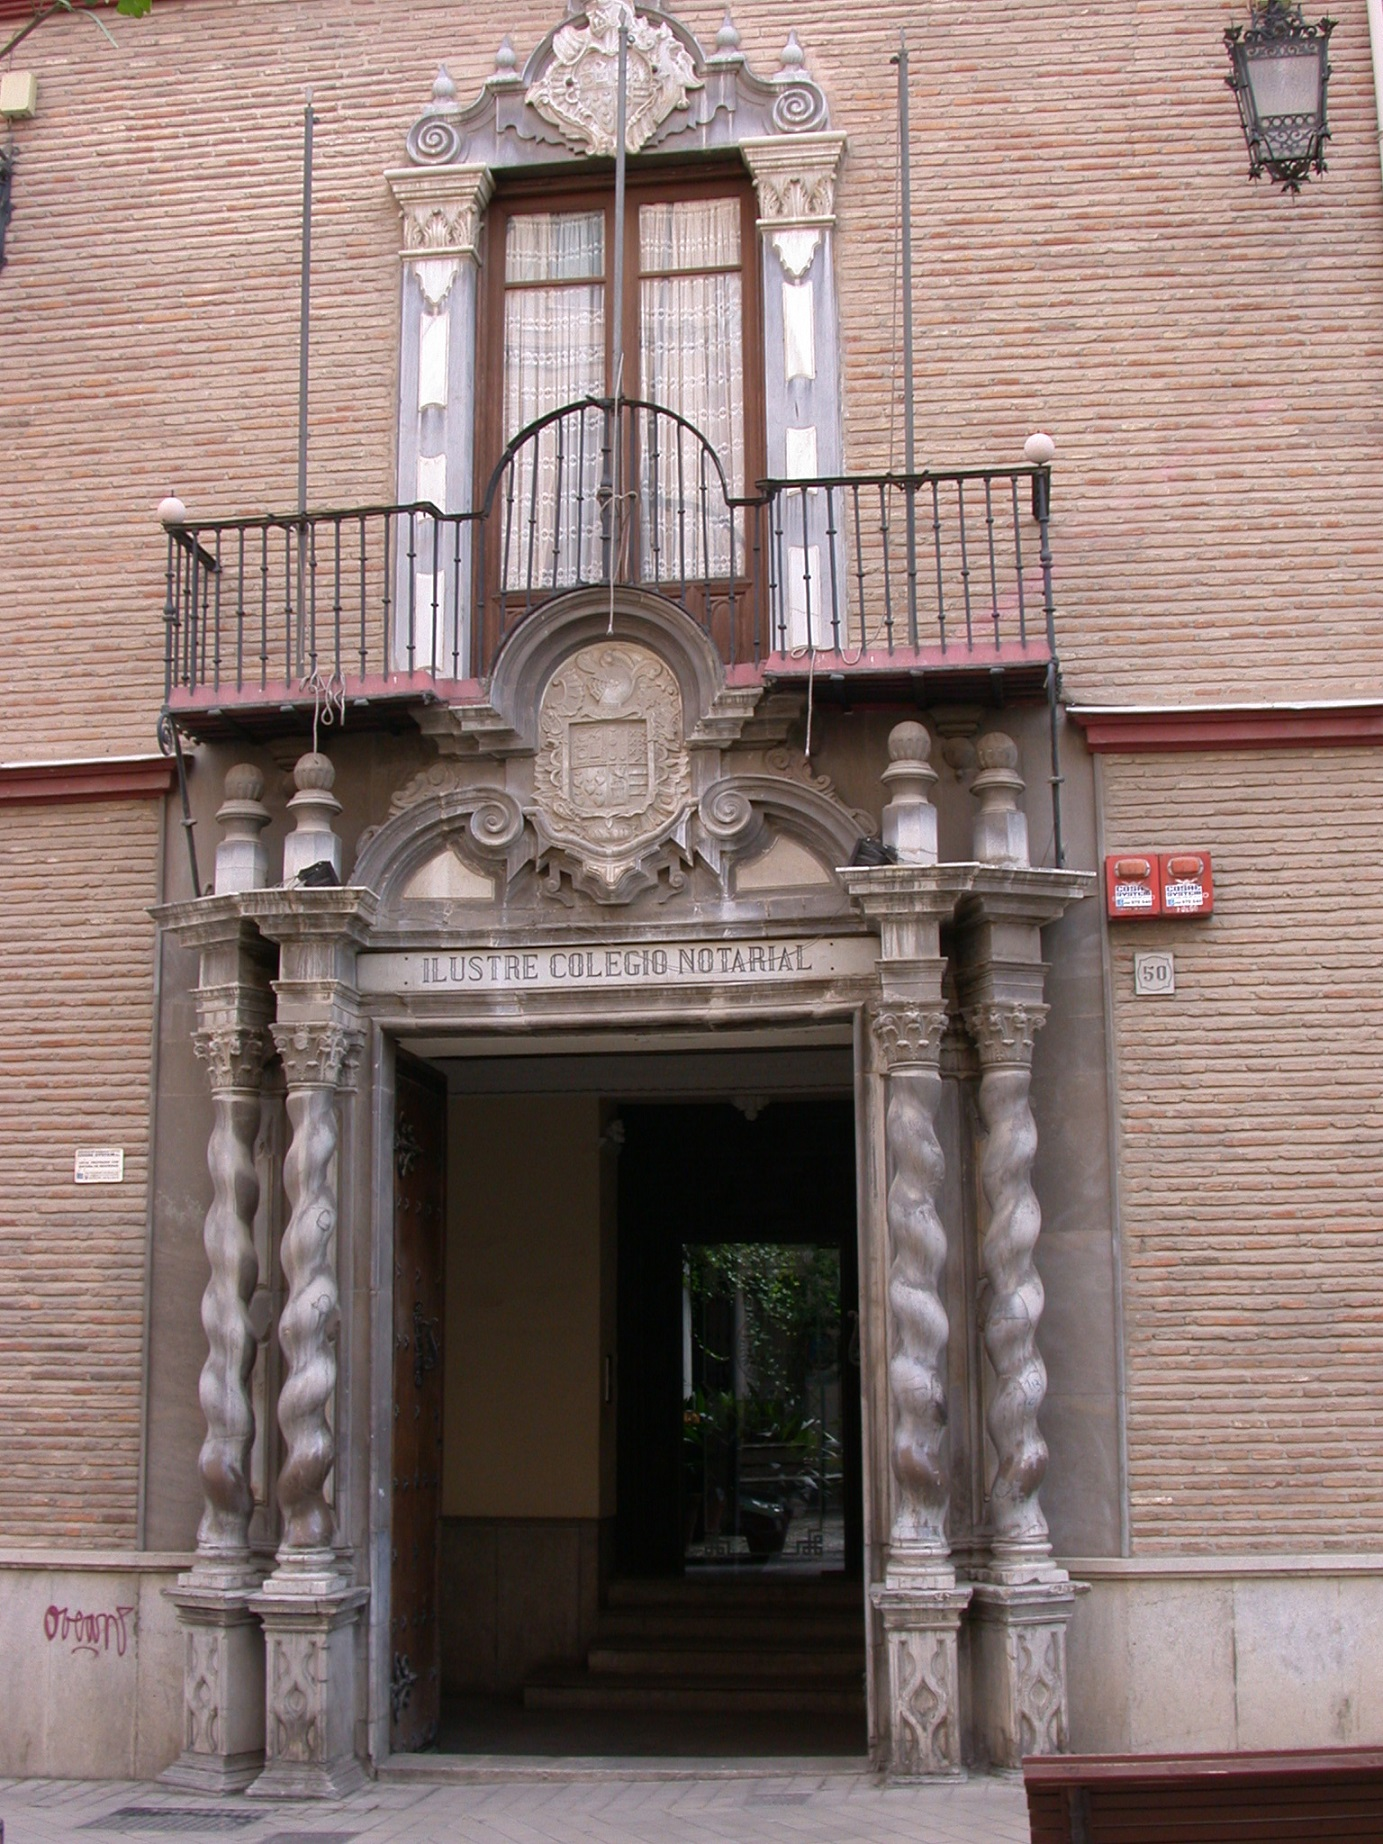columna-salomonica: (959, 1060, 1066, 1577), (872, 1048, 962, 1583), (189, 1083, 276, 1572), (266, 1082, 347, 1597)
fronton-partido: (337, 786, 880, 947)
vano-adintelado: (343, 977, 898, 1777), (413, 125, 859, 693)
